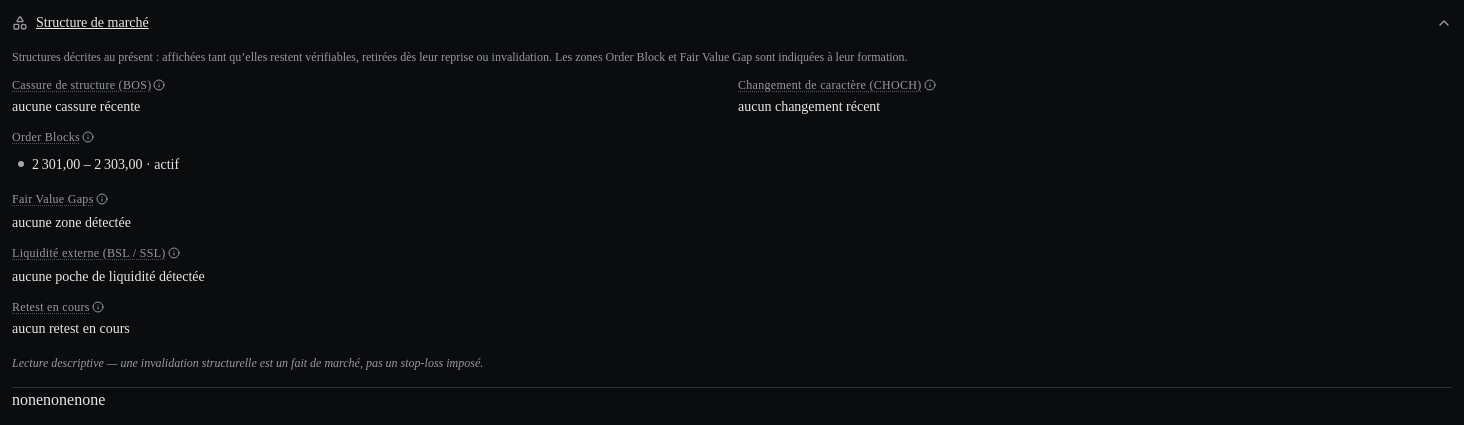
Test: zone list → click to chart › re-clicking the SAME zone deselects it (toggle: clears highlight + un-zooms)
Click the button "2 301,00 – 2 303,00 · actif" at (106, 164), box [12,151,1452,179]
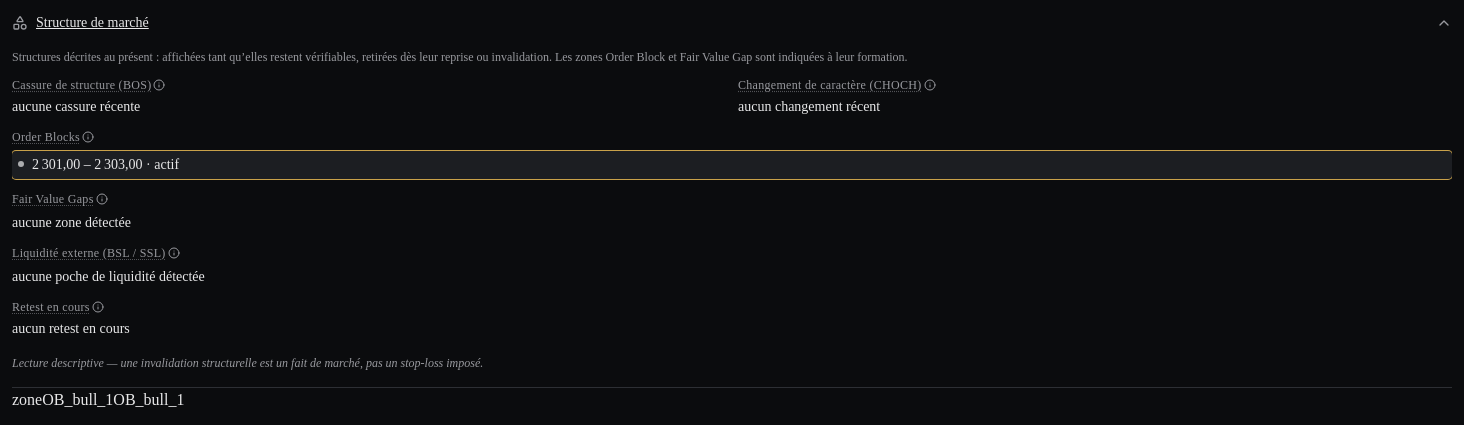
Check: the text with test id "highlight" reads "OB_bull_1", box [113,391,184,408]
Click the button "2 301,00 – 2 303,00 · actif" at (106, 164), box [12,151,1452,179]
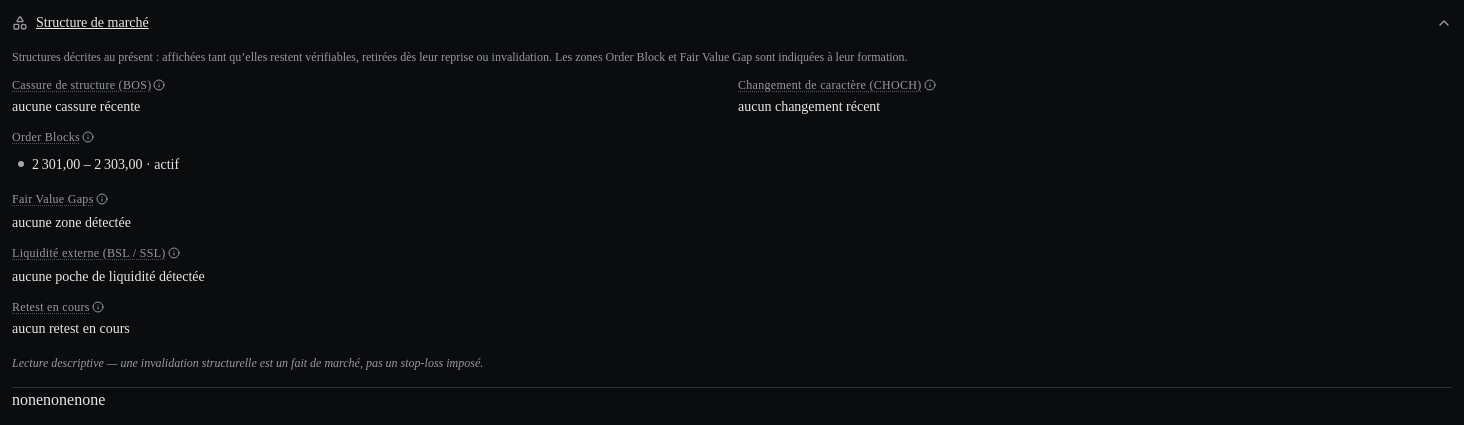
Check: the text with test id "highlight" reads "none", box [74,391,105,408]
Check: the text with test id "sel-family" reads "none", box [12,391,43,408]
